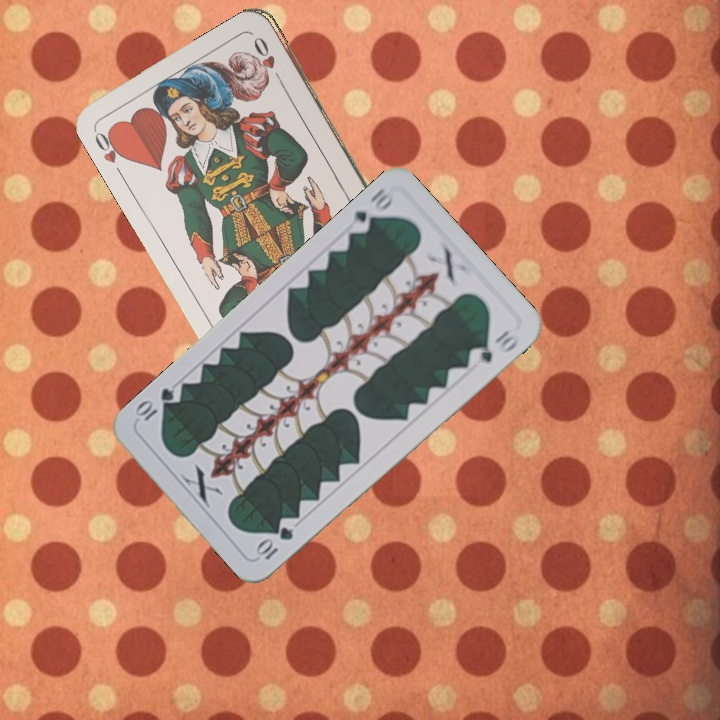G10: (349, 184, 397, 237), (252, 522, 296, 563)
HO: (90, 124, 131, 180)
